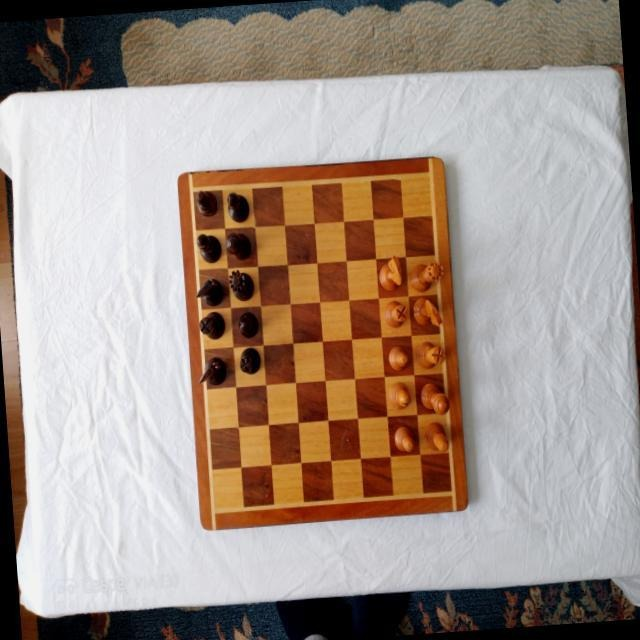black-bishop: (195, 231, 223, 265), (225, 189, 250, 223)
black-king: (224, 230, 252, 262)
black-knight: (196, 354, 228, 386), (195, 276, 225, 307)
black-pawn: (194, 187, 218, 216), (237, 310, 259, 338)
black-queen: (227, 267, 255, 303)
black-rook: (198, 309, 226, 341), (238, 345, 262, 374)
white-bishop: (423, 419, 449, 453), (388, 381, 412, 409)
white-king: (420, 381, 450, 417)
white-knight: (411, 294, 443, 330), (377, 253, 405, 291)
white-pawn: (393, 425, 415, 453), (388, 344, 410, 371)
white-queen: (407, 257, 445, 291)
white-rook: (414, 339, 446, 369), (383, 299, 409, 329)
